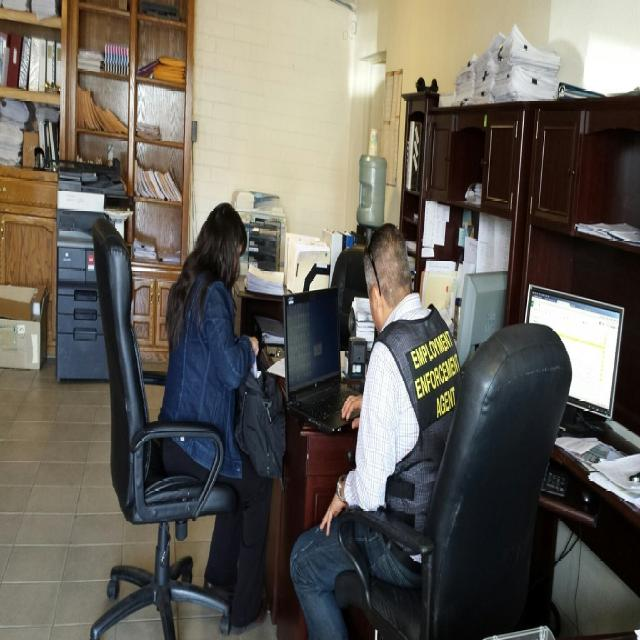chair: (338, 322, 572, 632), (90, 214, 236, 636)
desk: (256, 323, 350, 634)
keyboard: (540, 462, 572, 502)
laptop: (283, 286, 361, 434)
person: (288, 221, 461, 632), (158, 202, 282, 631)
tv: (524, 285, 625, 421), (457, 270, 508, 371)
